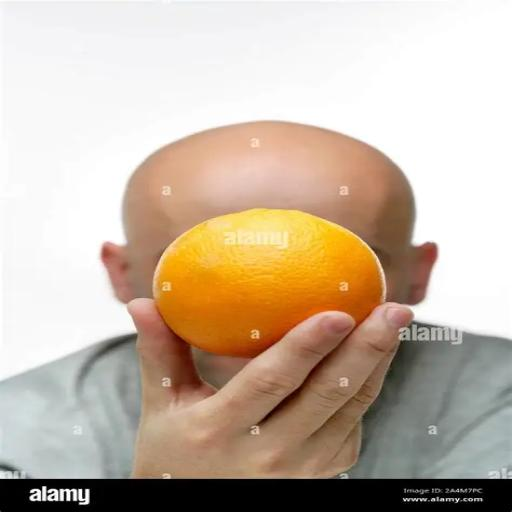orange: (154, 209, 385, 357)
